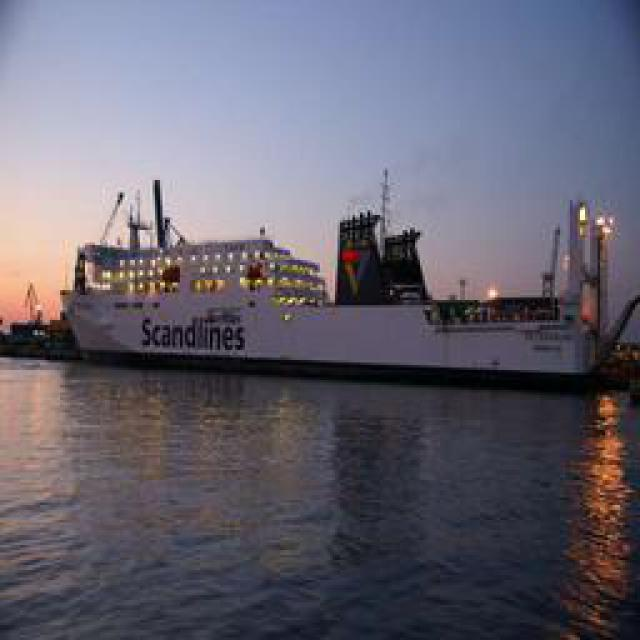Ship: (52, 162, 625, 380)
